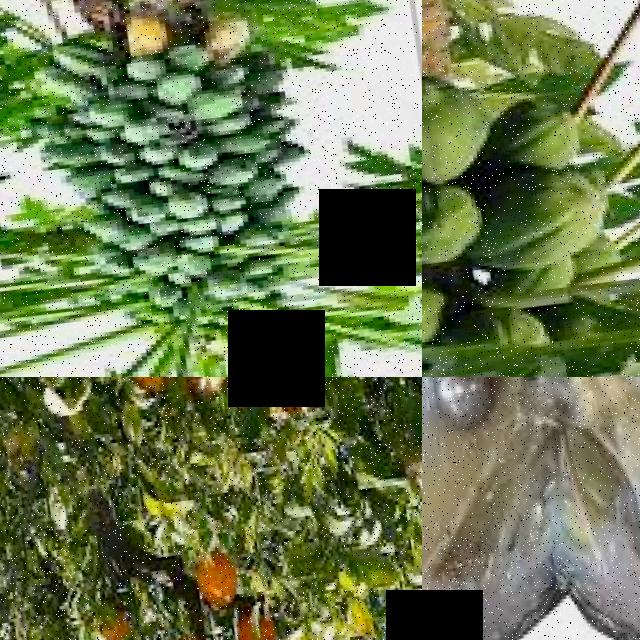orange: (190, 553, 237, 608), (120, 377, 174, 393)
oysters: (507, 377, 640, 640)
pawpaw: (477, 162, 610, 276), (422, 66, 490, 188), (422, 180, 487, 270), (183, 81, 245, 122), (211, 152, 258, 186), (162, 188, 206, 222)
